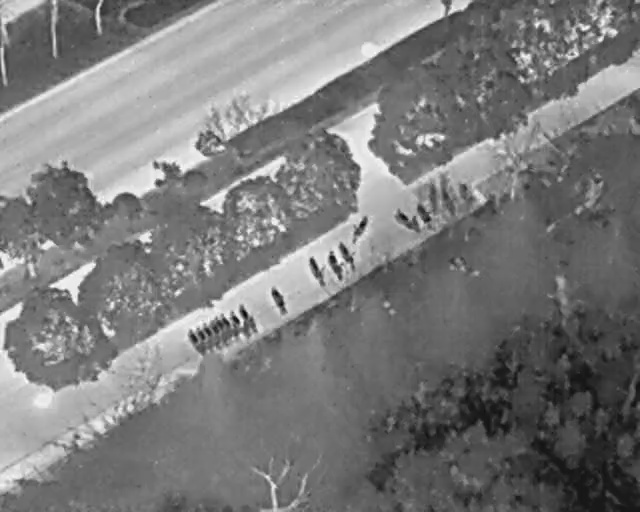Bicycle: (389, 204, 425, 238), (232, 300, 260, 337), (265, 284, 291, 318), (304, 255, 330, 289), (322, 249, 348, 283), (335, 238, 361, 272), (183, 326, 207, 358), (189, 323, 213, 355), (197, 321, 221, 353), (204, 318, 228, 350), (209, 315, 233, 347), (215, 311, 239, 343), (224, 309, 248, 341), (347, 212, 370, 245), (413, 199, 433, 225)
